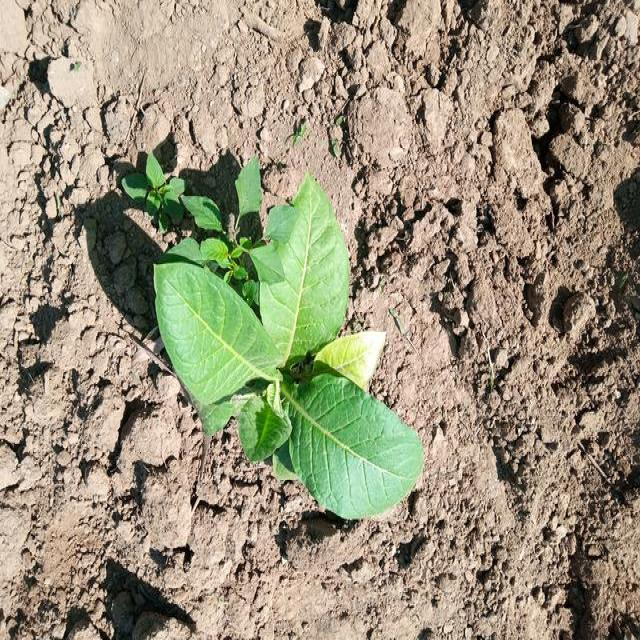crop: (152, 180, 422, 520)
